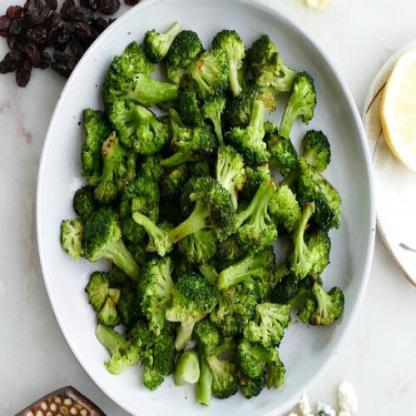broccoli: (59, 23, 348, 414)
